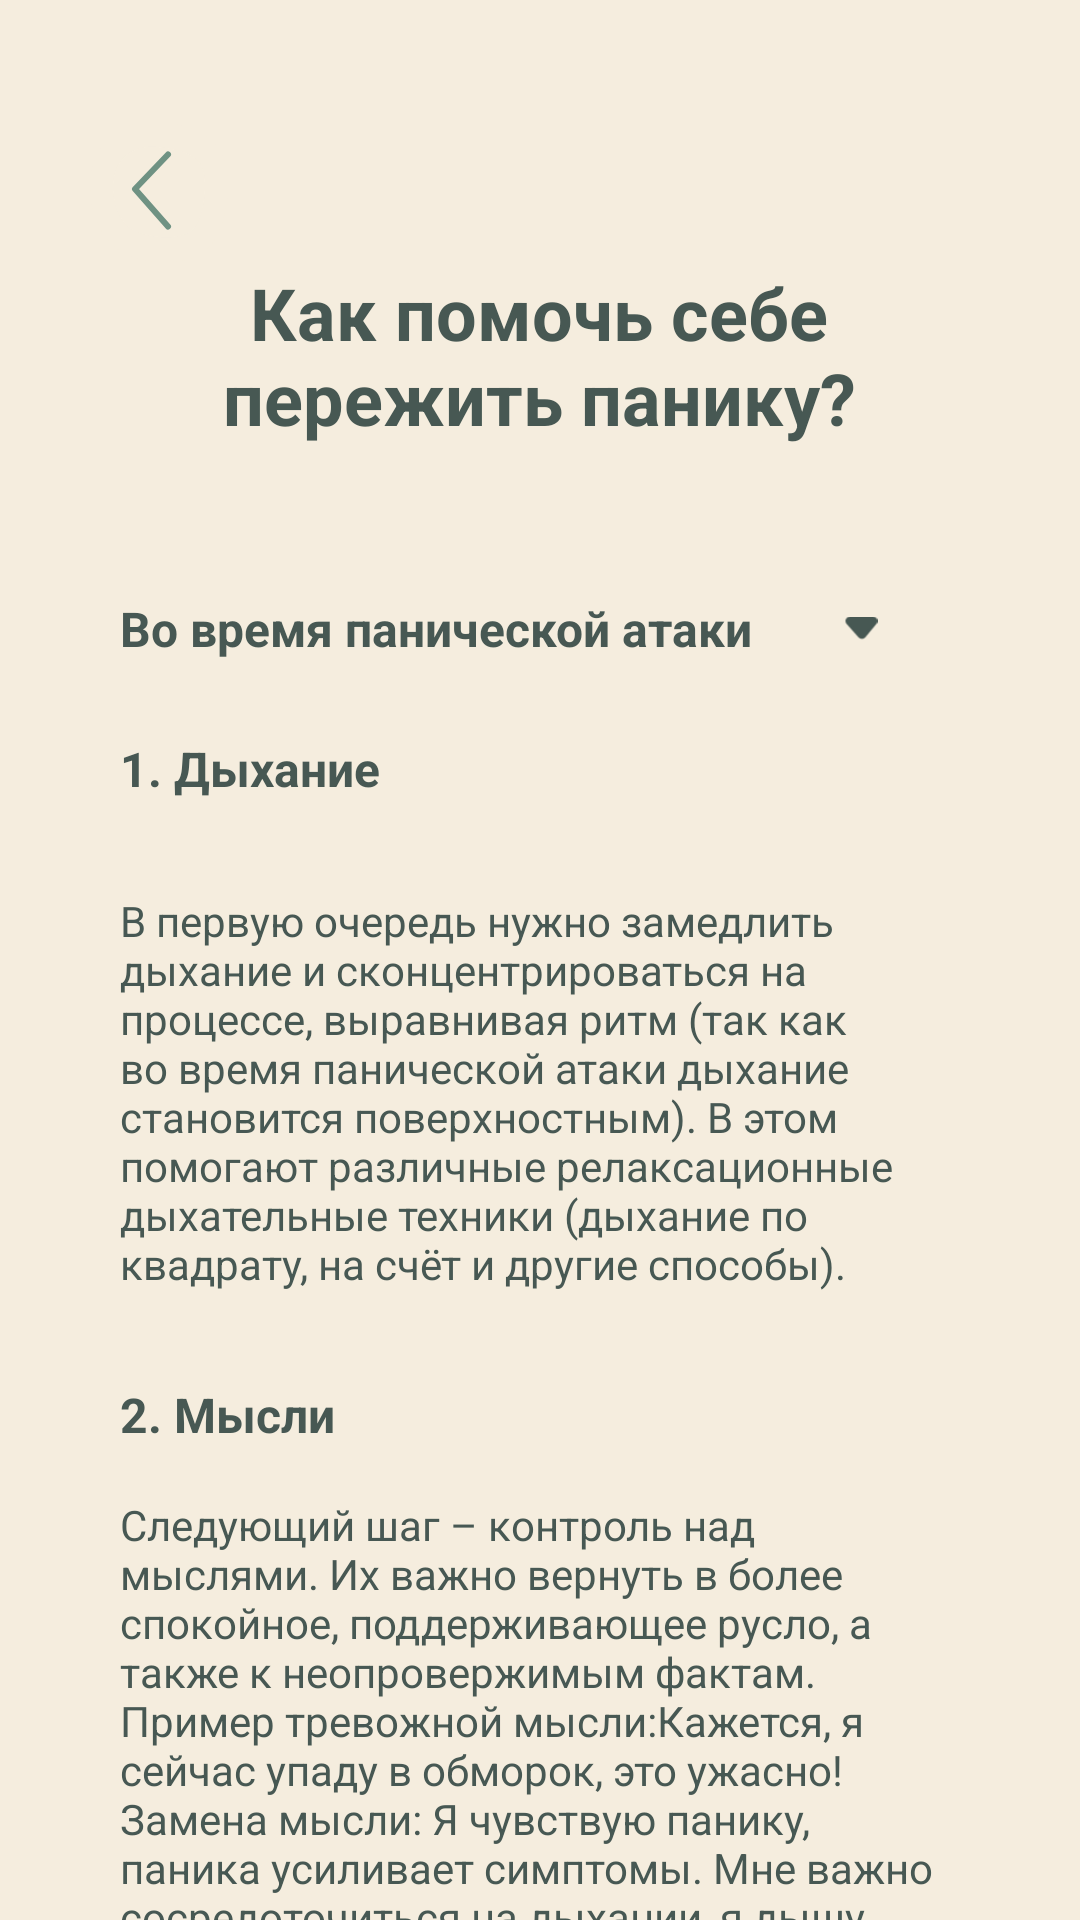

Named icons in this screenshot (1080px×1920px) and their centers, (x,y):
Back Button: (151,190)
